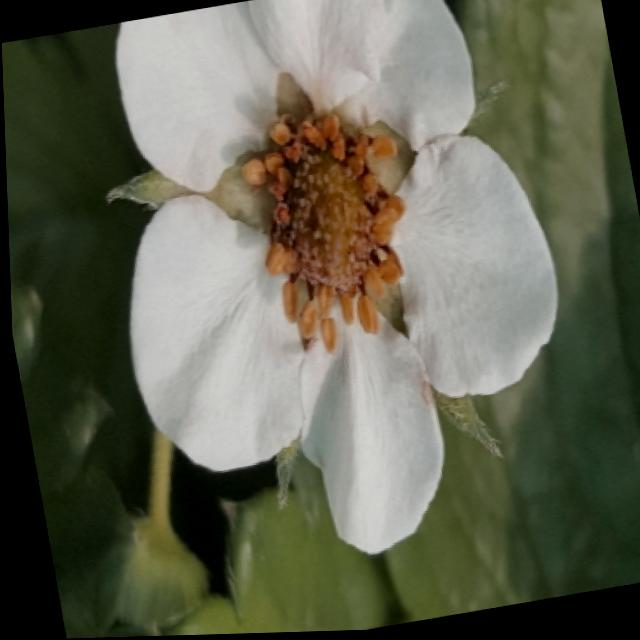Blossom Blight: (228, 110, 413, 361)
